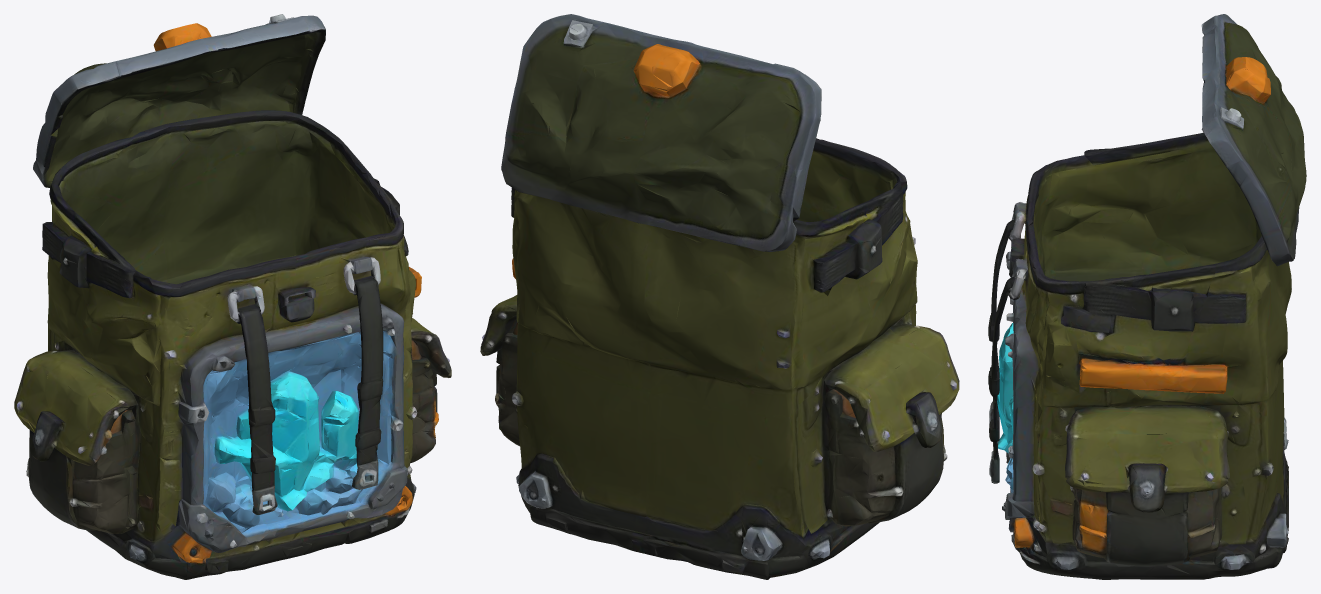
Rendered from sac-ouvert.glb.
3 views of the same model, side by side, from view 1: azimuth 30°, elevation 25°; view 2: azimuth 150°, elevation 25°; view 3: azimuth 270°, elevation 25° (orthographic). The views are drawn at different scales.
Size of the model in its own units: 0.9003 by 0.9789 by 0.6177.
Materials: 1 (1 with a texture image).
